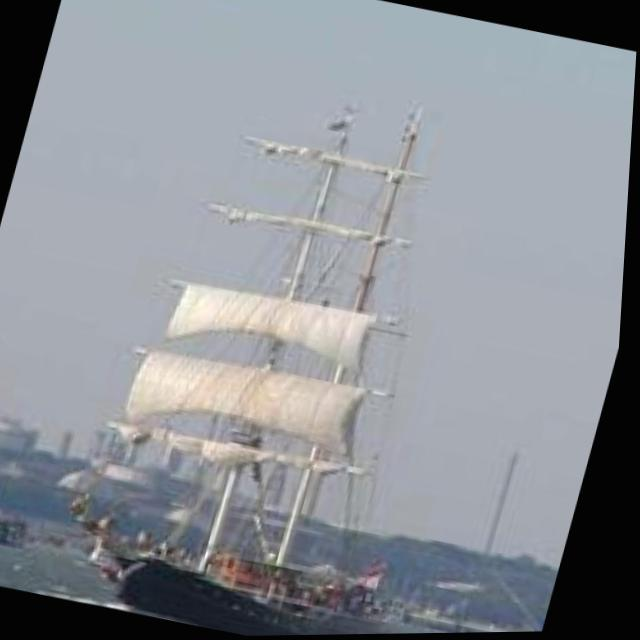ship2: (114, 109, 441, 637)
